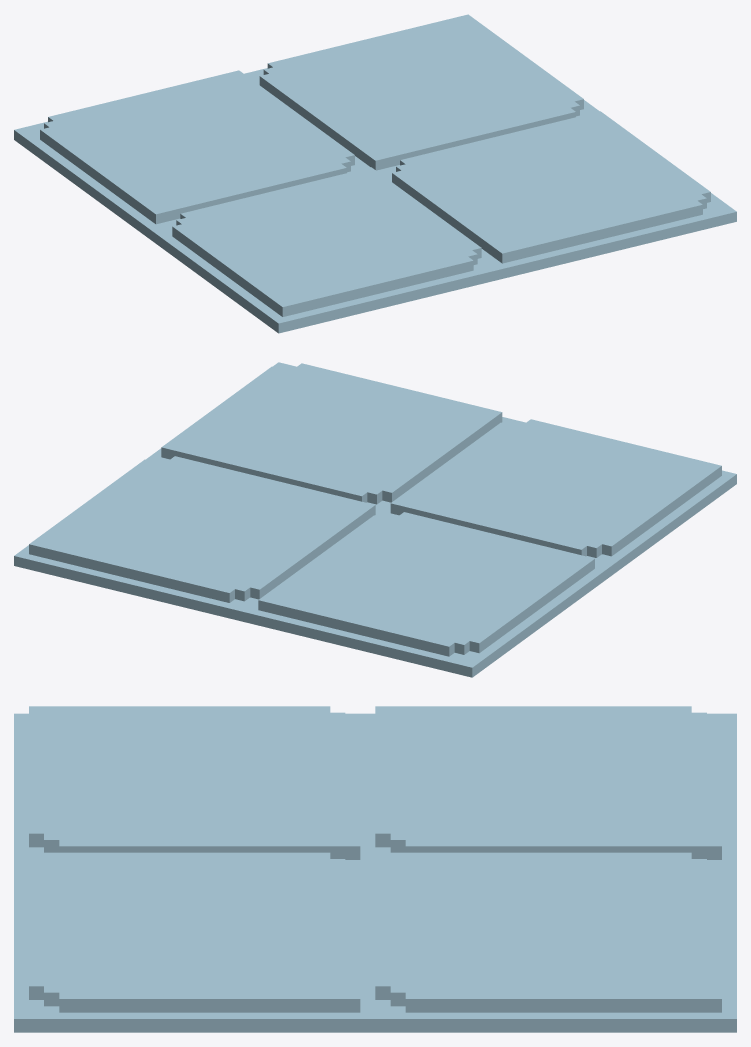
Rendered from lab-floor-1.obj.
3 views of the same model, one above another, from view 1: azimuth 30°, elevation 25°; view 2: azimuth 150°, elevation 25°; view 3: azimuth 270°, elevation 25° (orthographic). The views are drawn at different scales.
Bounding box in the file's own units: 4.8 × 0.2 × 4.8.
1 material, 1 textured.
